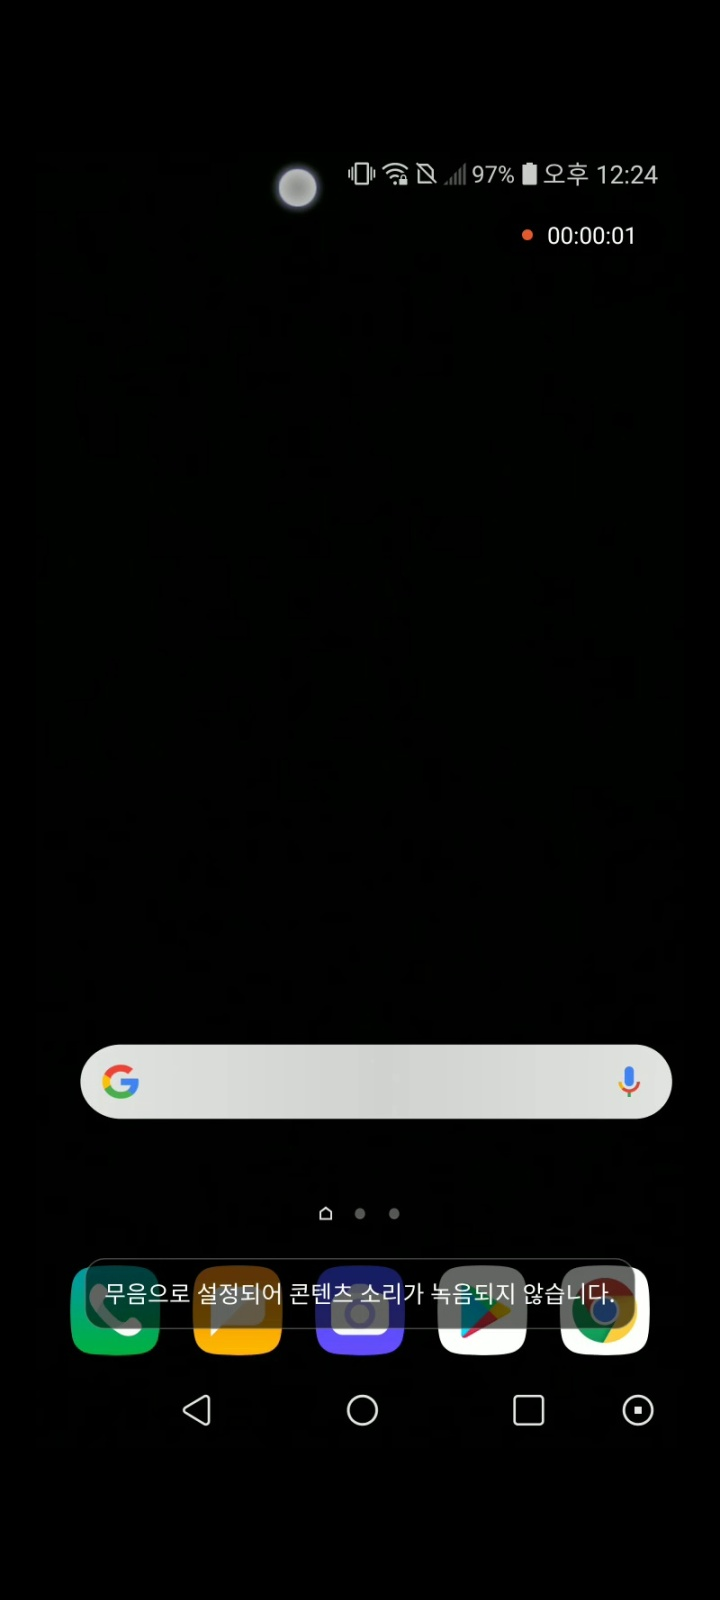Cursor: (278, 166, 323, 212)
